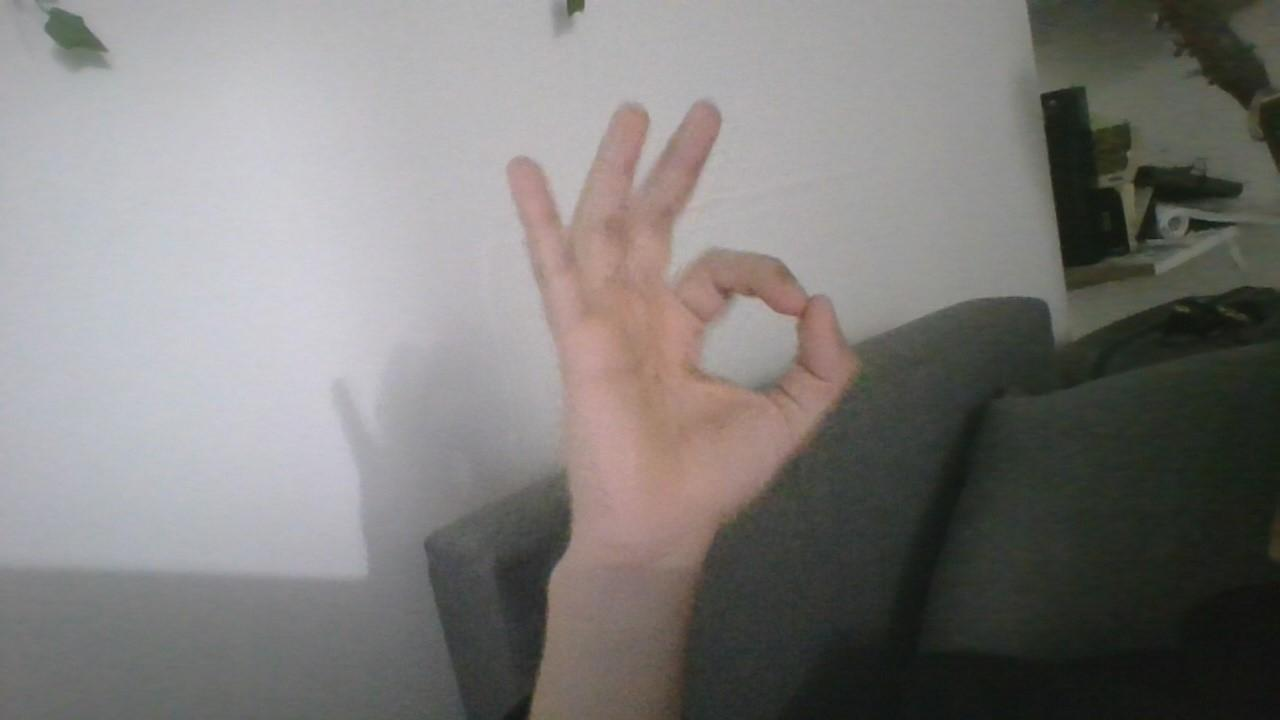zero: (485, 73, 873, 561)
